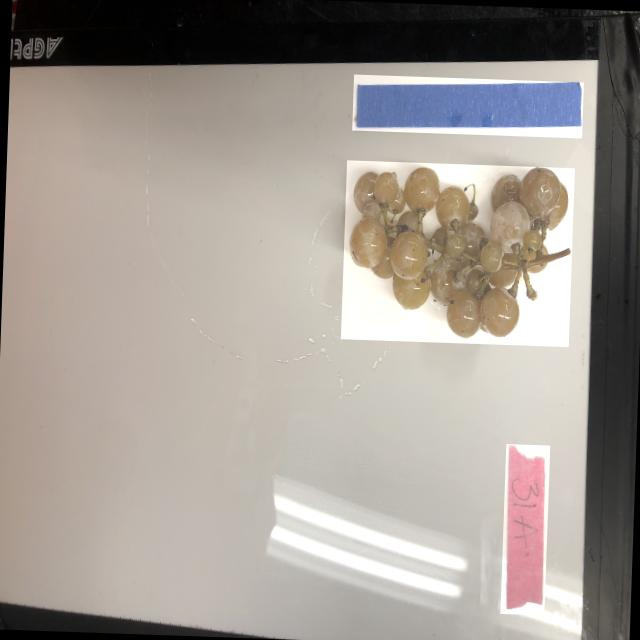grape_cluster: (340, 160, 574, 346)
index: (499, 444, 549, 615)
measure_label: (350, 74, 582, 138)
